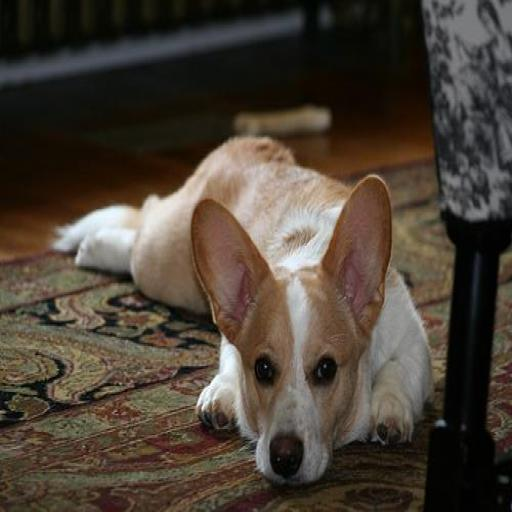dog_face: (189, 178, 398, 492)
